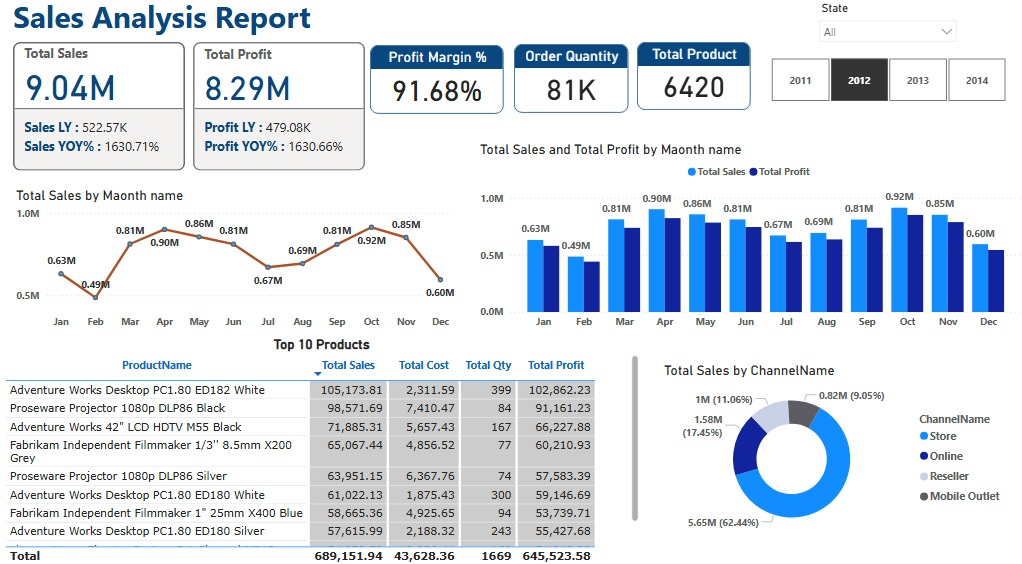

The page's visual inventory and layout, read from the dashboard file:
{"tool":"powerbi","page":{"name":"Regional Analysis","canvas":[1280,720],"ordinal":1},"visuals":[{"type":"textbox","box":[9.4,0,476.6,70.3],"z":0},{"type":"cardVisual","fields":{"Data":["All Measure.Total Sales"]},"box":[9.4,57.8,225,171.9],"z":1000},{"type":"cardVisual","fields":{"Data":["All Measure.Total Profit"]},"box":[234.4,57.8,225,171.9],"z":2000},{"type":"slicer","fields":{"Values":["Calender Table.Year"]},"box":[937.5,76.6,342.2,67.2],"z":3000},{"type":"card","title":"Profit Margin %","fields":{"Values":["All Measure.Profit Margin %"]},"box":[460.9,65.6,167.2,85.9],"z":4000},{"type":"card","title":"Total Product","fields":{"Values":["All Measure.Total Products"]},"box":[794.6,62.9,142,84.9],"z":5000},{"type":"card","title":"Order Quantity","fields":{"Values":["All Measure.Total Qty"]},"box":[641,64.4,143.4,86.3],"z":6000},{"type":"slicer","fields":{"Values":["Sales_State.State"]},"box":[1012.5,7.8,192.2,62.5],"z":7000},{"type":"lineChart","fields":{"Category":["Calender Table.Maonth name"],"Y":["All Measure.Total Sales"]},"box":[14.1,243.8,557.8,185.9],"z":8000},{"type":"clusteredColumnChart","fields":{"Y":["All Measure.Total Sales","All Measure.Total Profit"],"Category":["Calender Table.Maonth name"]},"box":[593.8,185.9,685.9,243.8],"z":9000},{"type":"donutChart","fields":{"Y":["All Measure.Total Sales"],"Category":["Sales_Channel.ChannelName"]},"box":[823.4,462.5,439.1,223.4],"z":10000},{"type":"tableEx","title":"Top 10 Products","fields":{"Values":["Sales_Product.ProductName","All Measure.Total Sales","All Measure.Total Cost","All Measure.Total Qty","All Measure.Total Profit"]},"box":[0,429.4,801.6,290.6],"z":11000}]}

Visuals, with their boxes in screenshot pixels (x1, y1, x2, y2), scaled from the page's 1280x720 canvas onto the 1022x564 screenshot:
textbox: {"x1": 8, "y1": 0, "x2": 388, "y2": 55}
cardVisual - All Measure.Total Sales: {"x1": 8, "y1": 45, "x2": 187, "y2": 180}
cardVisual - All Measure.Total Profit: {"x1": 187, "y1": 45, "x2": 367, "y2": 180}
slicer - Calender Table.Year: {"x1": 749, "y1": 60, "x2": 1021, "y2": 113}
"Profit Margin %" card: {"x1": 368, "y1": 51, "x2": 501, "y2": 119}
"Total Product" card: {"x1": 634, "y1": 49, "x2": 748, "y2": 116}
"Order Quantity" card: {"x1": 512, "y1": 50, "x2": 626, "y2": 118}
slicer - Sales_State.State: {"x1": 808, "y1": 6, "x2": 962, "y2": 55}
lineChart - Calender Table.Maonth name x All Measure.Total Sales: {"x1": 11, "y1": 191, "x2": 457, "y2": 337}
clusteredColumnChart - All Measure.Total Sales x All Measure.Total Profit: {"x1": 474, "y1": 146, "x2": 1021, "y2": 337}
donutChart - All Measure.Total Sales x Sales_Channel.ChannelName: {"x1": 657, "y1": 362, "x2": 1008, "y2": 537}
"Top 10 Products" tableEx: {"x1": 0, "y1": 336, "x2": 640, "y2": 563}
